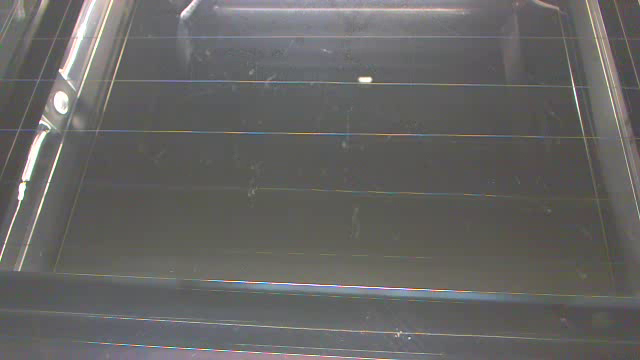alpha: (178, 1, 199, 22), (533, 1, 561, 13), (357, 75, 371, 85)
